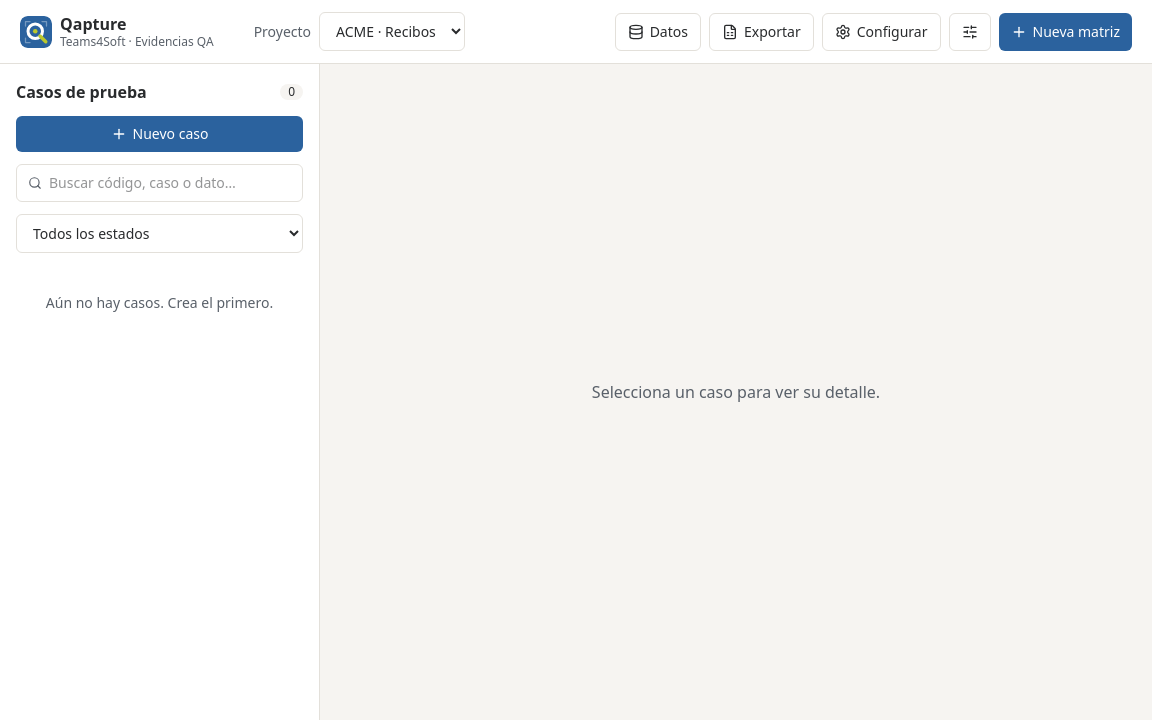
Test: configuración del proyecto › edita los datos del proyecto
Click the button "Configurar".
click(881, 32)  # box [822,12,940,50]
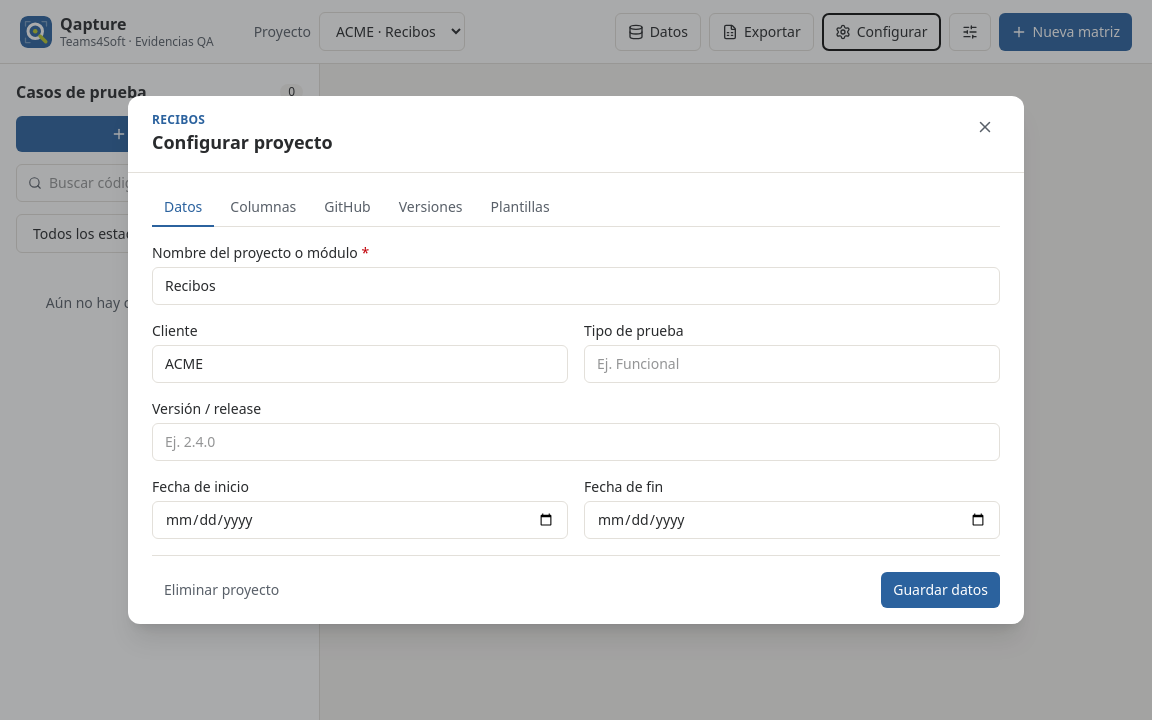
Replace the text in the field labelled "Nombre del proyecto o módulo *" with "Recibos v2" at (576, 286), box [152,267,1000,305]
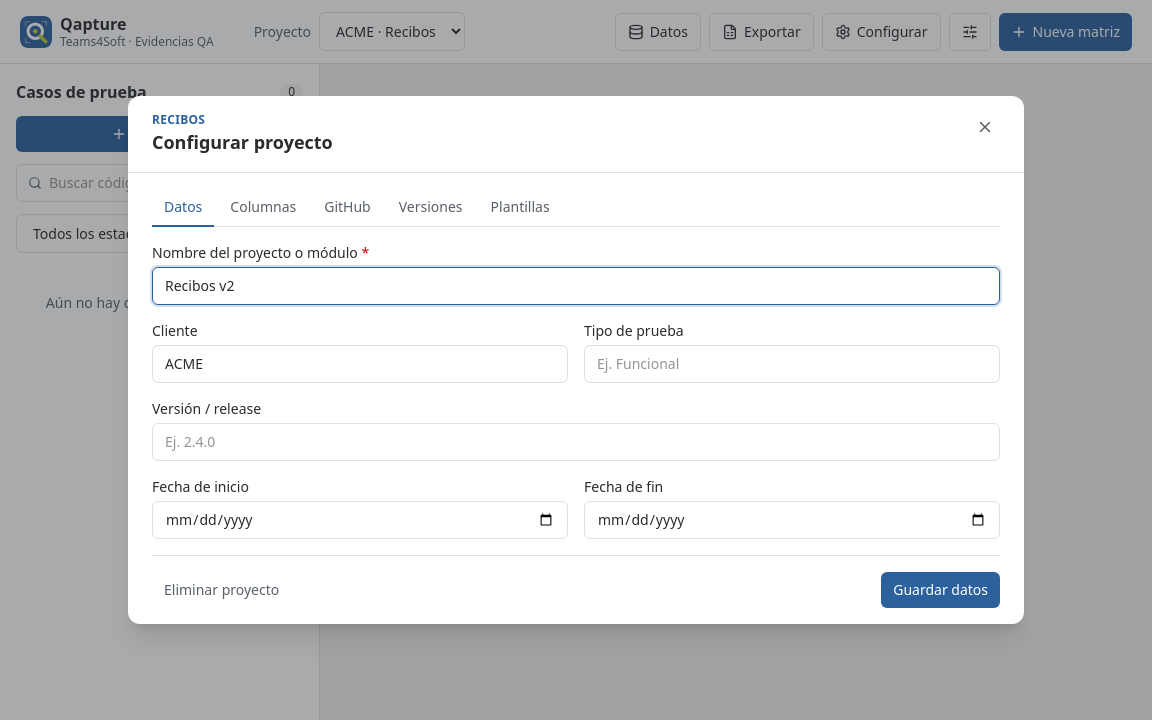
Click the button "Guardar datos".
click(941, 590)  # box [881,572,1000,608]
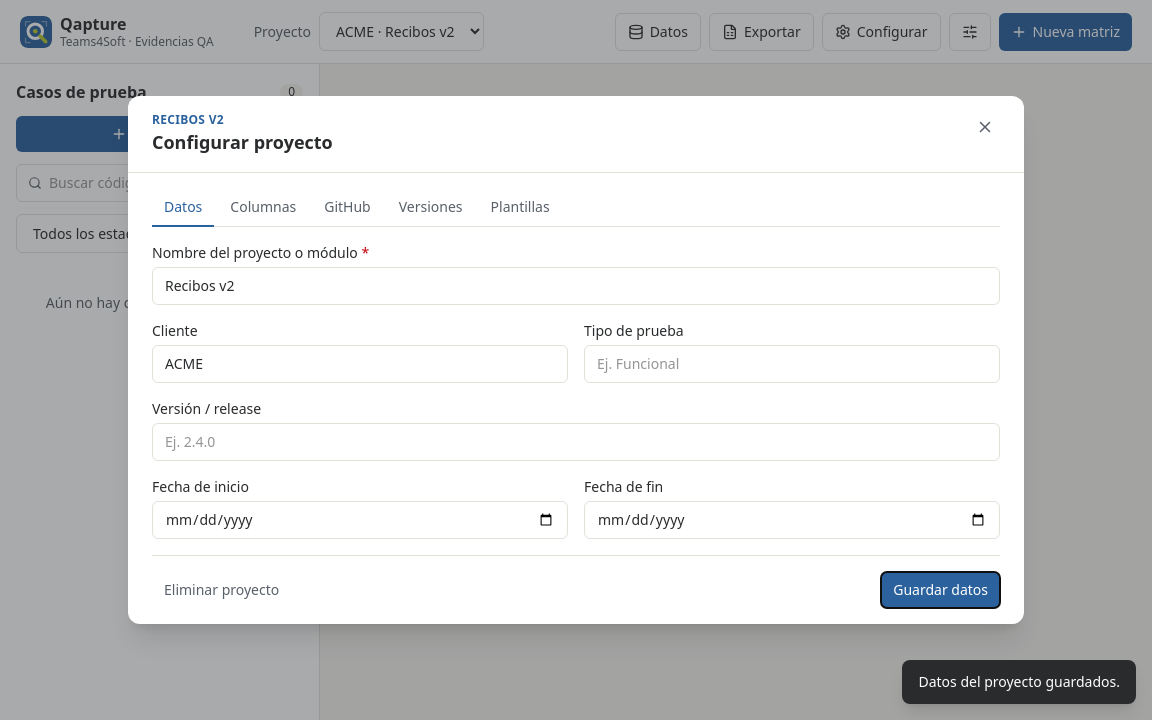
expect the dropdown labelled "Proyecto" shows "ACME · Recibos v2": met, box [319,12,484,51]
